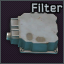Military power filter: (0, 0, 64, 64)
